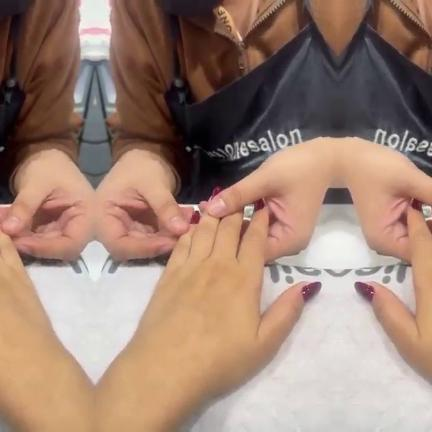Nail: (301, 282, 321, 302), (353, 282, 373, 302), (189, 210, 199, 224), (210, 187, 219, 200)
